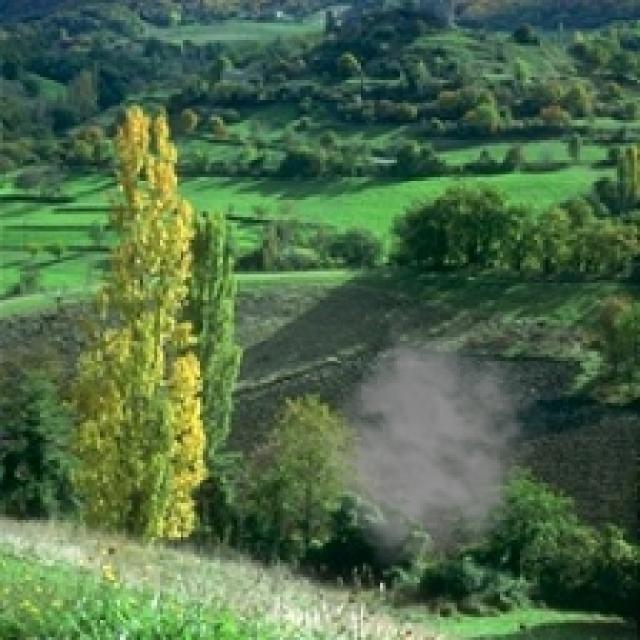Smoke: (319, 312, 552, 568)
